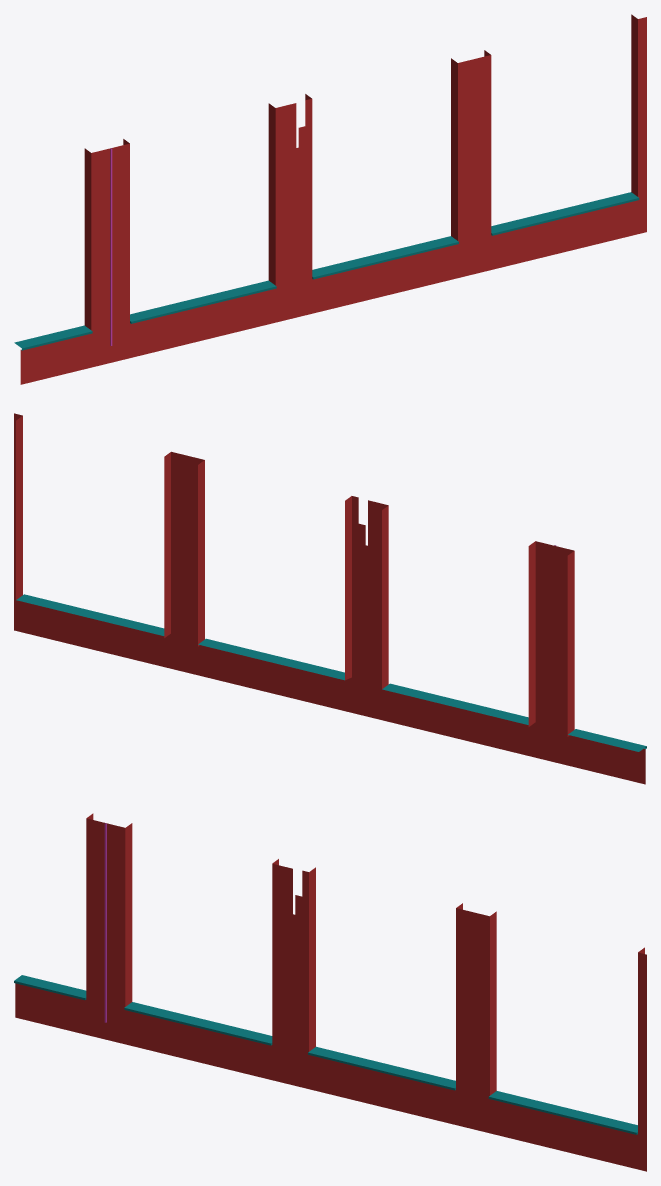
File: SM_Wall_07.fbx
3 renders of one model, top to bottom at view 1: azimuth 30°, elevation 25°; view 2: azimuth 150°, elevation 25°; view 3: azimuth 330°, elevation 25°, orthographic.
Parts seen in each view (by area): view 1: SM_Wall_07; view 2: SM_Wall_07; view 3: SM_Wall_07.
Part boxes in pixels (left/top/right/bottom): SM_Wall_07: left=14, top=14, right=646, bottom=384; SM_Wall_07: left=14, top=413, right=646, bottom=784; SM_Wall_07: left=14, top=813, right=646, bottom=1171.
Bounding box in the file's own units: 932 × 306 × 20.6.
